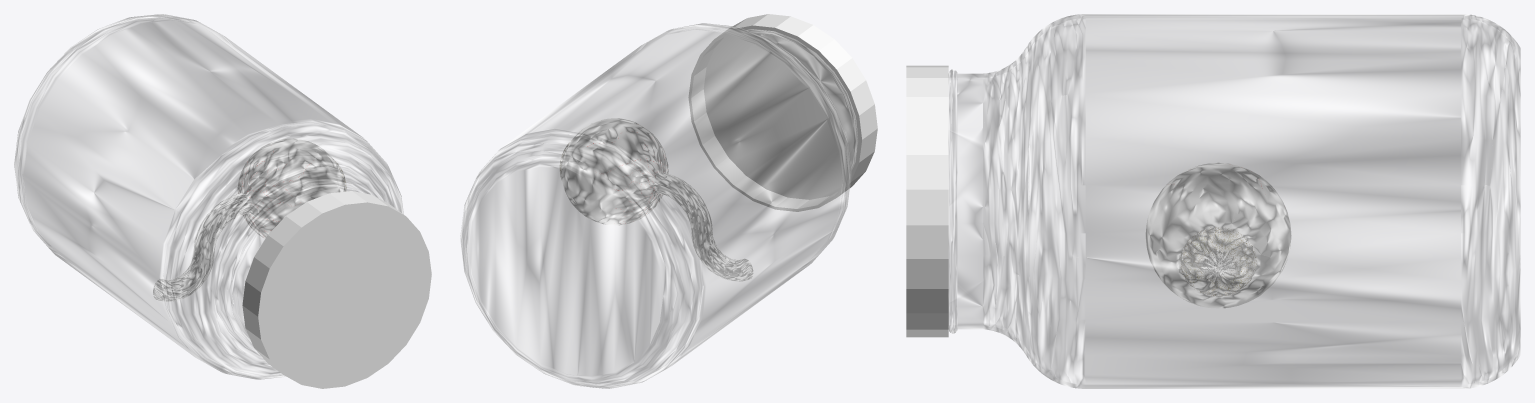
File: model_align.obj
3 renders of one model, left to right at view 1: azimuth 30°, elevation 25°; view 2: azimuth 150°, elevation 25°; view 3: azimuth 270°, elevation 25°, orthographic. The views are drawn at different scales.
Size of the model in its own units: 0.1295 by 0.1295 by 0.2114.
Materials: 7 (7 with a texture image).
